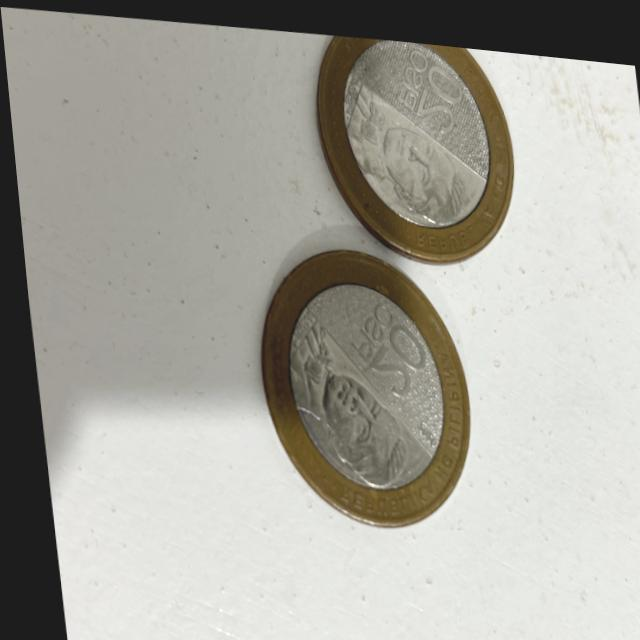20_New_Front: (346, 288, 425, 397), (390, 34, 465, 133)
